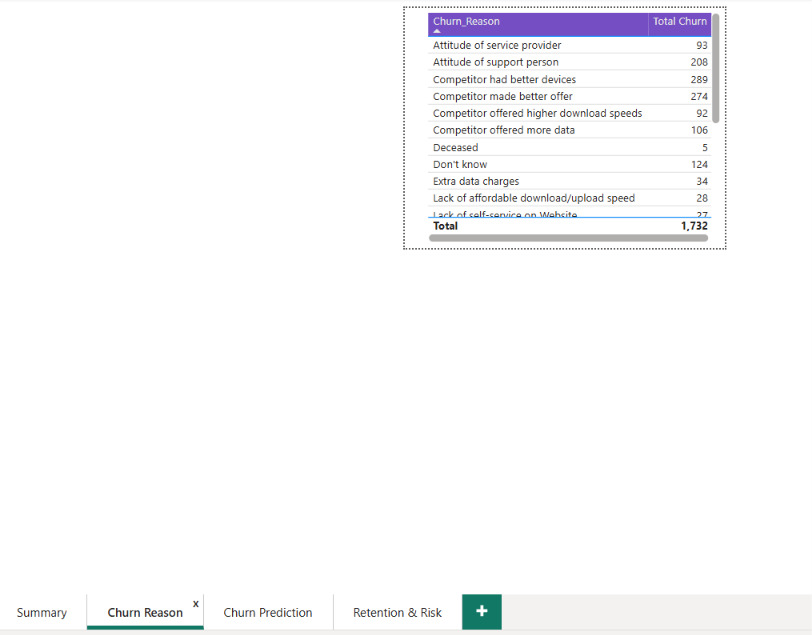

The dashboard page shown, as its layout file describes it:
{"tool":"powerbi","page":{"name":"Churn Reason","canvas":[320,240],"ordinal":1},"visuals":[{"type":"tableEx","fields":{"Values":["prod_Churn.Churn_Reason","Tbl_Measures.Total Churn"]},"box":[17,0,303,240],"z":0}]}

Visuals, with their boxes on the page's 320x240 design canvas (x1, y1, x2, y2). These are canvas units, not pixel positions in the 812x635 screenshot, which may show the page scaled, cropped or inside an application window:
tableEx - prod_Churn.Churn_Reason x Tbl_Measures.Total Churn: box=[17, 0, 320, 240]
